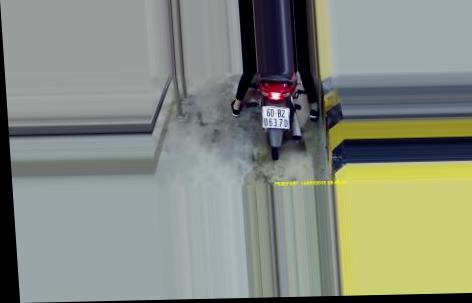License_Plate: (258, 105, 295, 133)
